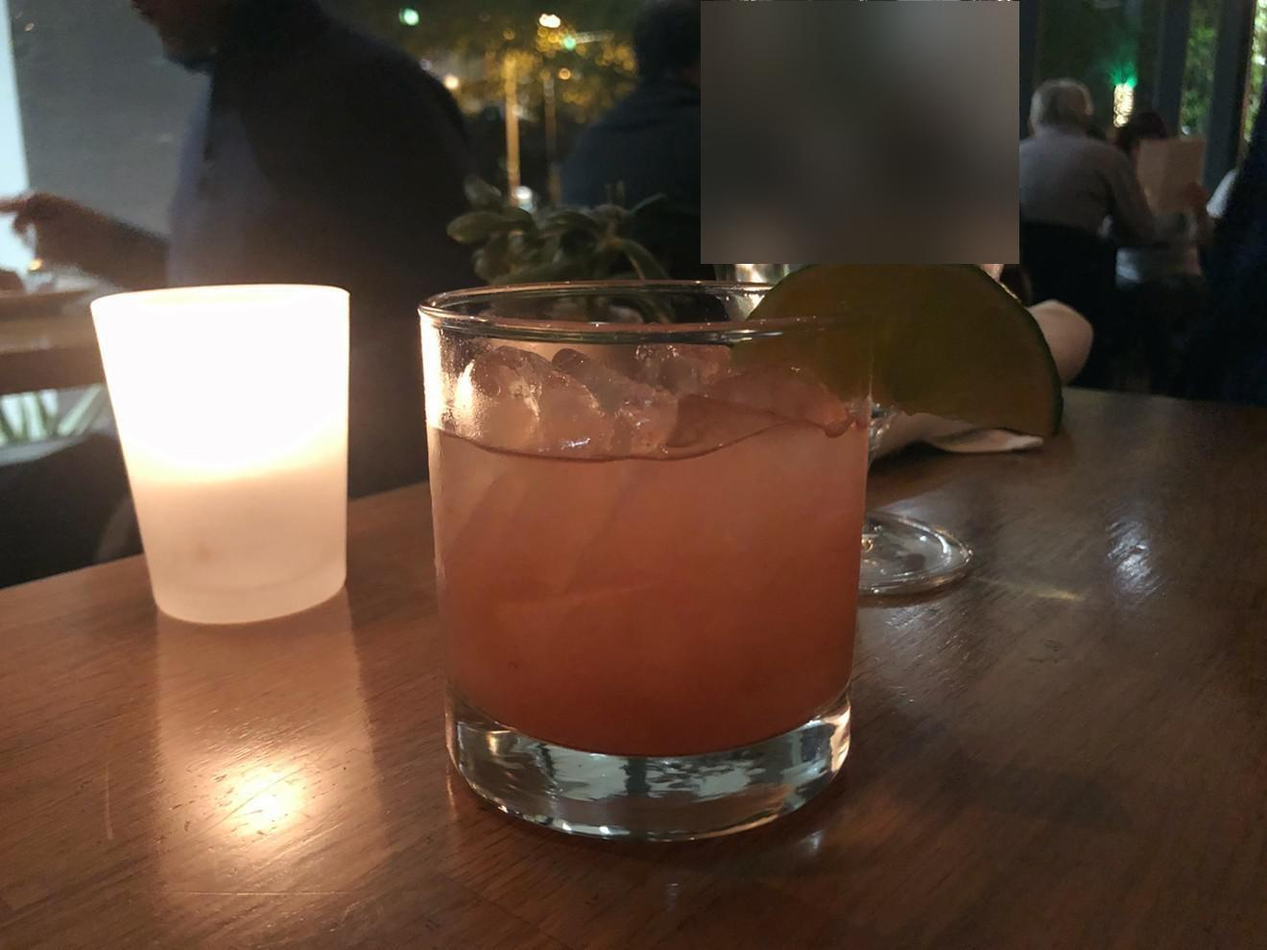glass-normal: (410, 274, 877, 845), (86, 278, 354, 625)
